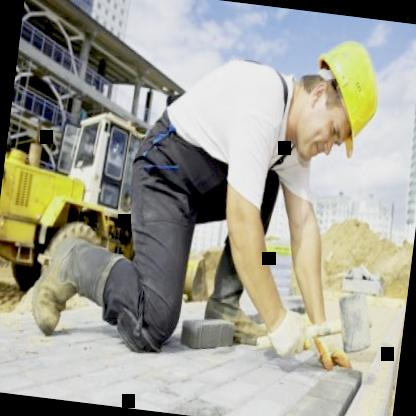helmet: (278, 24, 395, 177)
